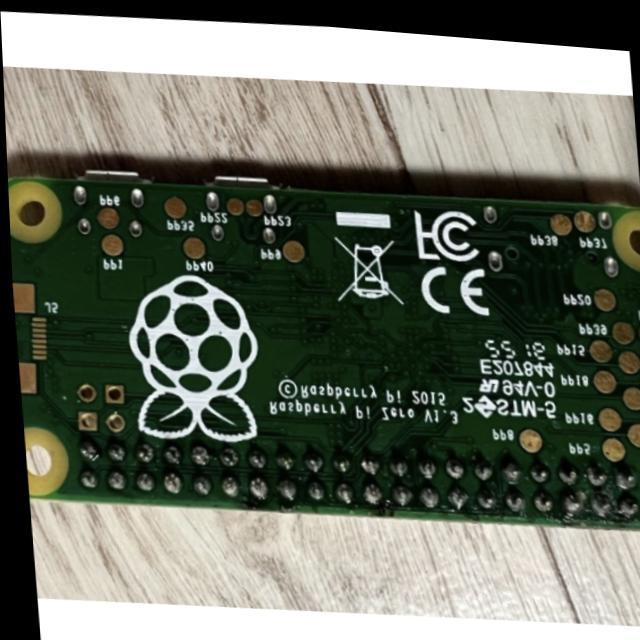Raspberry-Pi-Zero: (10, 171, 640, 529)
